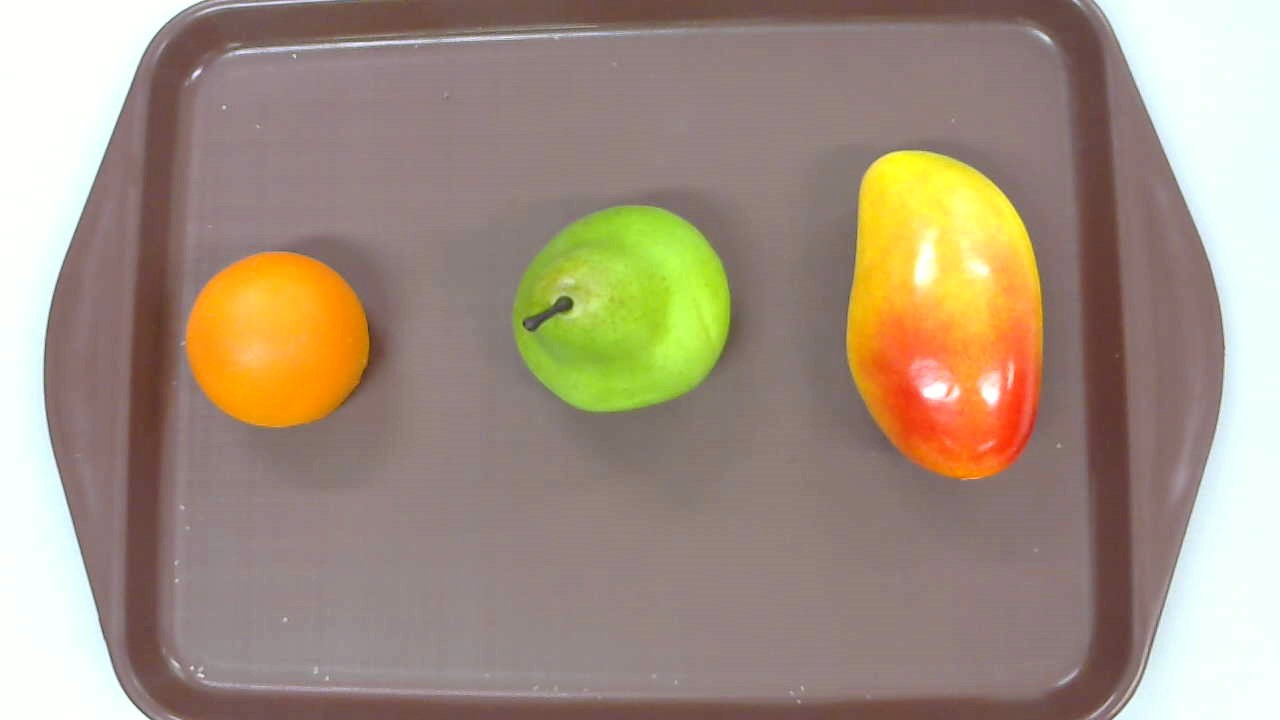bun: (184, 251, 369, 428)
green pear: (510, 203, 730, 412)
red mango: (846, 150, 1043, 482)
